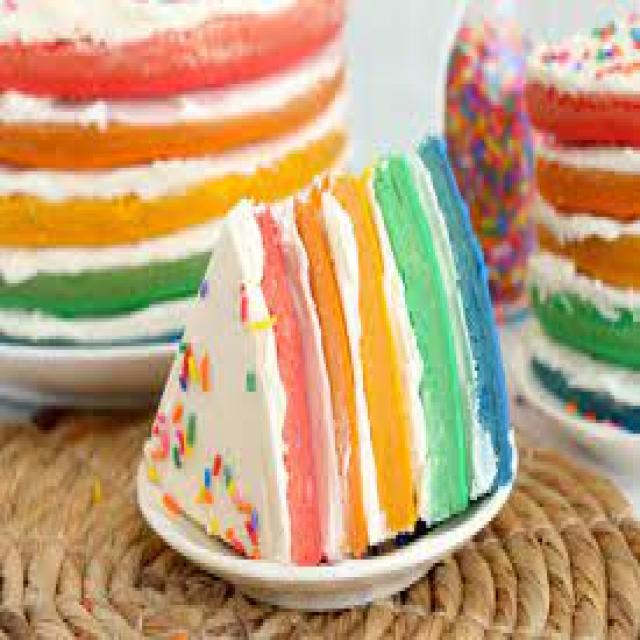Wet Waste: (137, 126, 505, 576)
